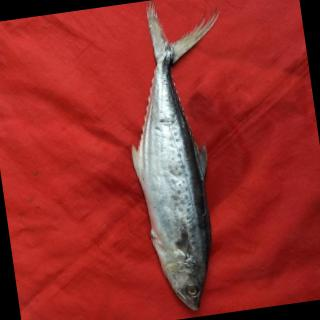Ikan: (102, 1, 241, 320)
